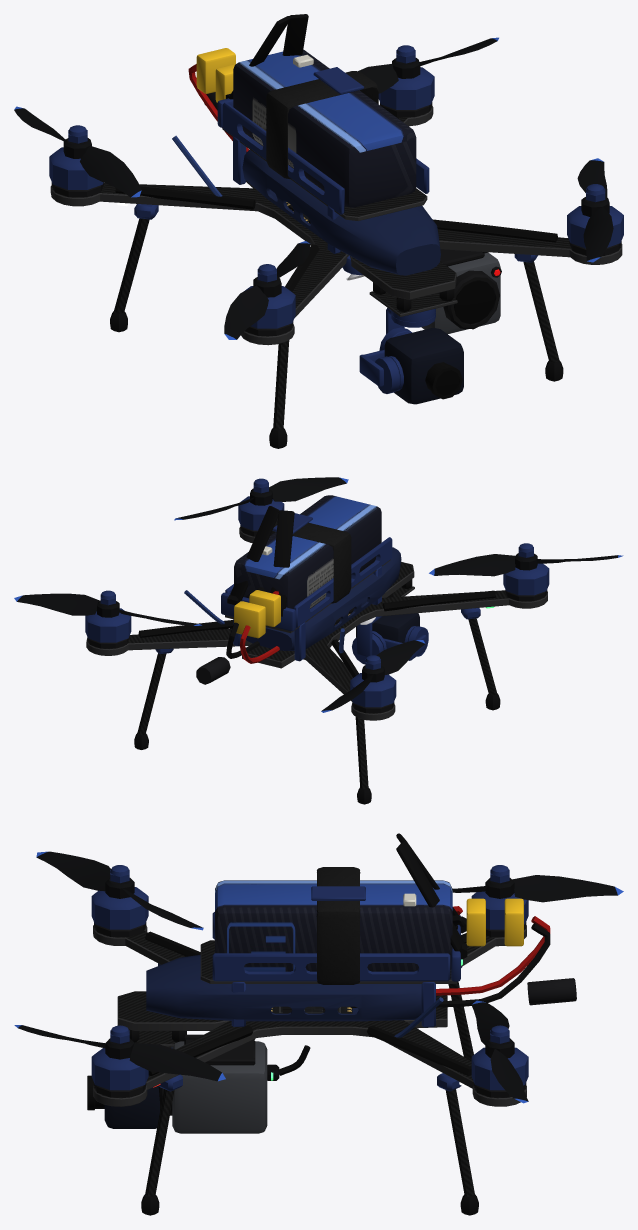
Rendered from nightowl_a_lod1.glb.
3 renders of one model, top to bottom at view 1: azimuth 30°, elevation 25°; view 2: azimuth 150°, elevation 25°; view 3: azimuth 270°, elevation 25°, orthographic. The views are drawn at different scales.
Parts seen in each view (by area): view 1: body, battery, gimbal_pitch, nv_pod, prop_rr, prop_fr, prop_fl, prop_rl, nv_lens, gimbal_roll, gimbal_yaw; view 2: body, battery, prop_fr, prop_rl, prop_fl, prop_rr, gimbal_pitch, gimbal_yaw, gimbal_roll; view 3: body, battery, nv_pod, prop_fl, prop_rr, prop_fr, prop_rl, gimbal_pitch.
Boxes of the visible parts, x1,y1,x2,y2 form: body: (49, 14, 623, 448); battery: (215, 49, 416, 207); gimbal_pitch: (384, 328, 463, 404); nv_pod: (421, 249, 501, 334); prop_rr: (14, 106, 141, 197); prop_fr: (224, 241, 310, 339); prop_fl: (577, 158, 613, 262); prop_rl: (358, 37, 498, 93); nv_lens: (454, 280, 494, 324); gimbal_roll: (359, 331, 411, 393); gimbal_yaw: (379, 307, 435, 350); body: (85, 496, 549, 804); battery: (234, 495, 381, 626); prop_fr: (429, 543, 623, 576); prop_rl: (14, 590, 201, 625); prop_fl: (174, 477, 348, 520); prop_rr: (321, 640, 425, 712); gimbal_pitch: (356, 613, 419, 642); gimbal_yaw: (352, 616, 383, 664); gimbal_roll: (372, 626, 428, 660); body: (91, 833, 576, 1215); battery: (215, 880, 485, 971); nv_pod: (160, 1034, 310, 1133); prop_fl: (14, 1025, 225, 1081); prop_rr: (452, 865, 623, 902); prop_fr: (36, 851, 203, 930); prop_rl: (471, 1000, 528, 1103); gimbal_pitch: (87, 1075, 159, 1128).
Bounding box in the file's own units: 0.2501 × 0.1419 × 0.2569.
39 materials, 4 textured.
